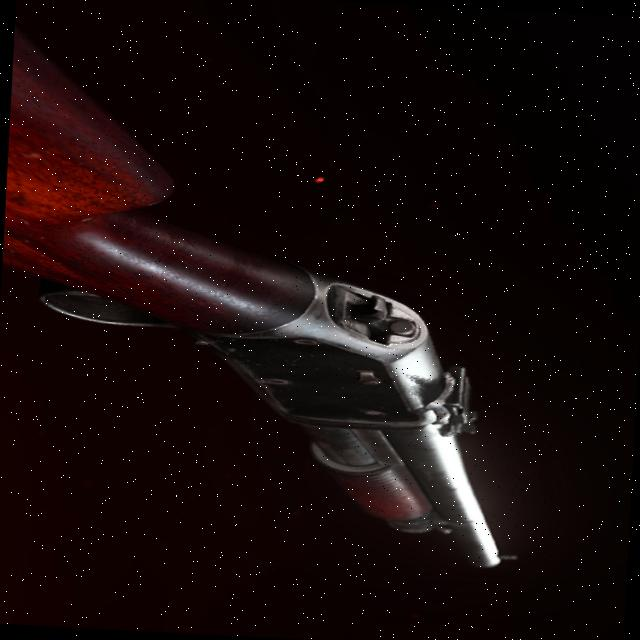Shotgun: (0, 17, 568, 575)
